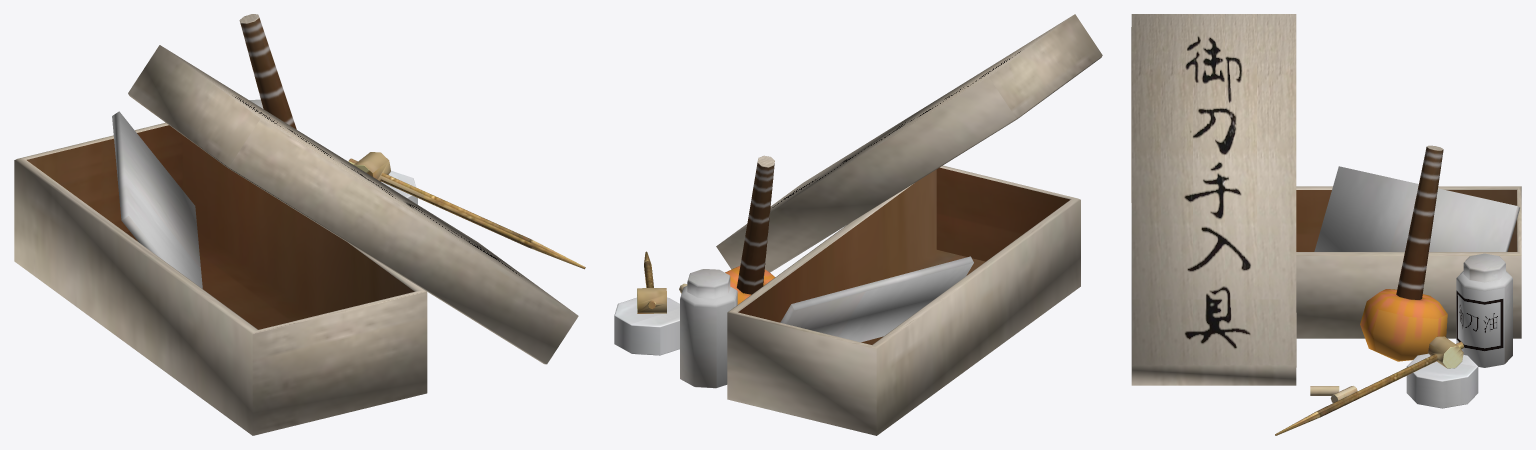
Rendered from KatanaCleaningKit.fbx.
3 views of the same model, side by side, from view 1: azimuth 30°, elevation 25°; view 2: azimuth 150°, elevation 25°; view 3: azimuth 270°, elevation 25° (orthographic). The views are drawn at different scales.
Parts seen in each view (by area): view 1: KCK; view 2: KCK; view 3: KCK.
Part boxes in pixels (x1,y1,x2,y2): KCK: (14, 14, 585, 435); KCK: (614, 14, 1102, 435); KCK: (1131, 14, 1521, 435).
Size of the model in its own units: 0.8622 by 0.5867 by 0.8017.
